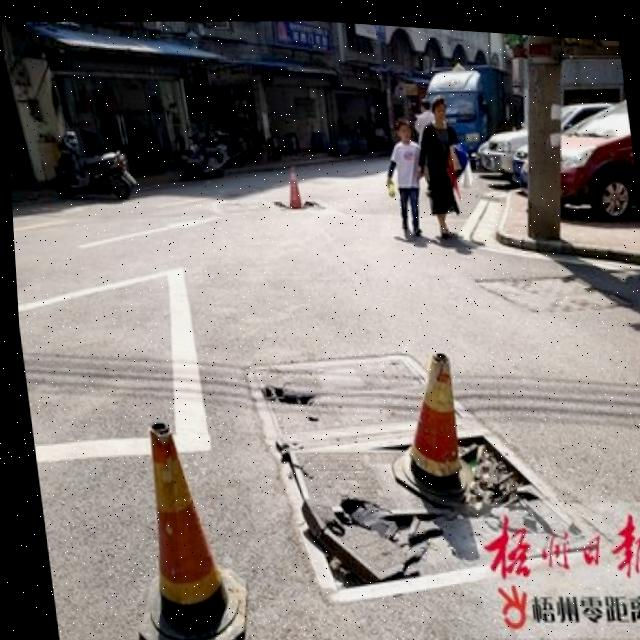manhole: (232, 321, 585, 609)
